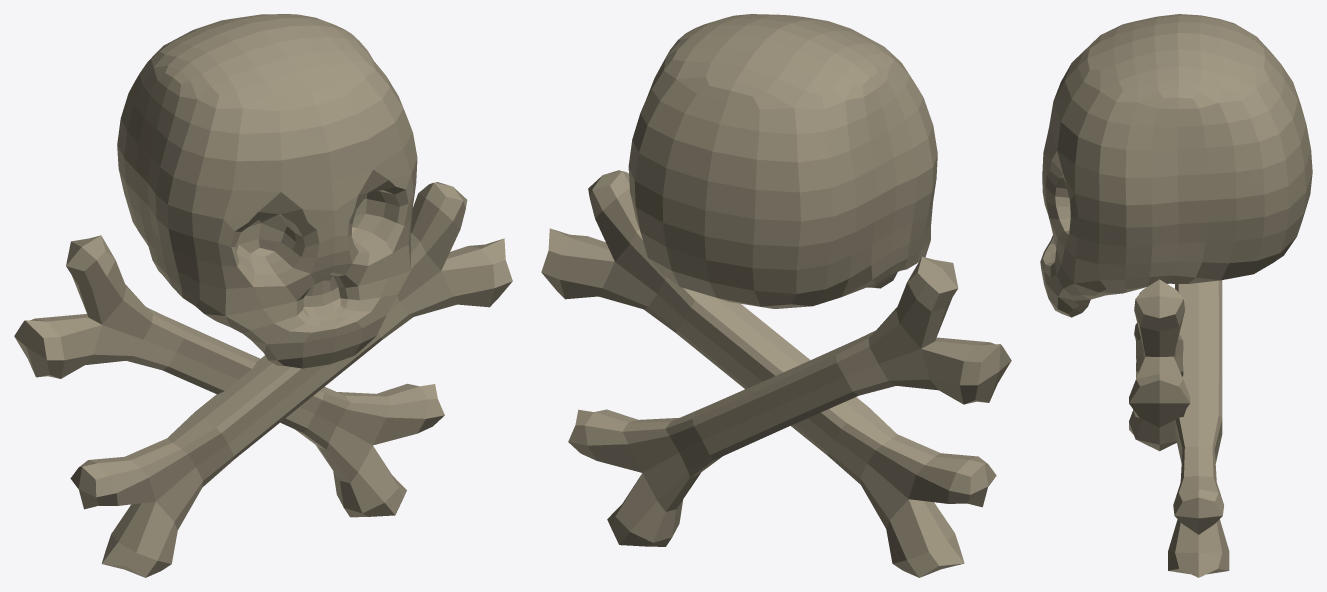
The model's file is Skull2.glb.
3 views of the same model, side by side, from view 1: azimuth 30°, elevation 25°; view 2: azimuth 150°, elevation 25°; view 3: azimuth 270°, elevation 25° (orthographic). The views are drawn at different scales.
Visible parts, largest first — view 1: Skull2; view 2: Skull2; view 3: Skull2.
Part boxes in pixels (left/top/right/bottom): Skull2: left=14, top=14, right=512, bottom=577; Skull2: left=541, top=14, right=1011, bottom=577; Skull2: left=1040, top=14, right=1312, bottom=577.
Size of the model in its own units: 0.8581 by 0.9274 by 0.4708.
